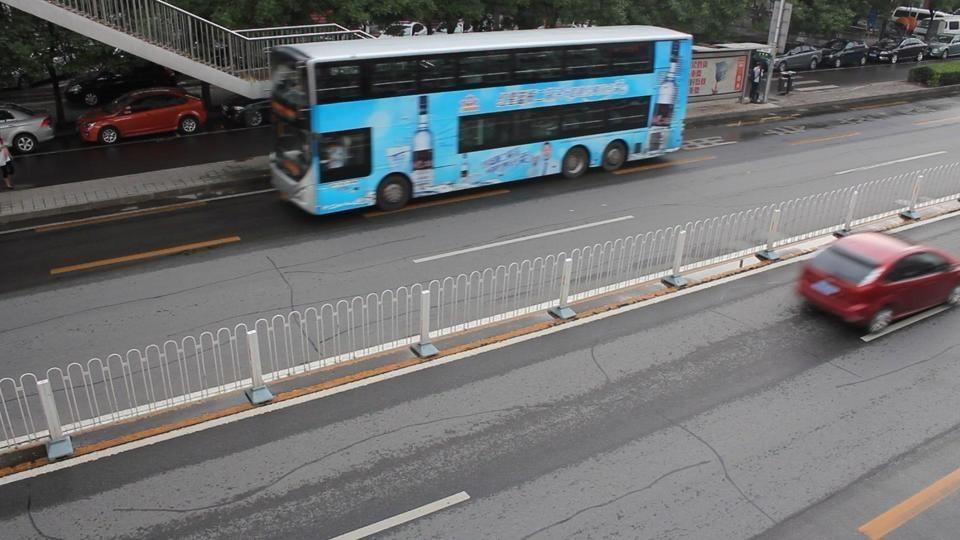car: (794, 230, 960, 337), (75, 87, 209, 146), (70, 65, 184, 108), (0, 103, 56, 155), (220, 97, 273, 128), (869, 39, 929, 65), (816, 41, 870, 69), (772, 45, 824, 71), (924, 37, 960, 62)
